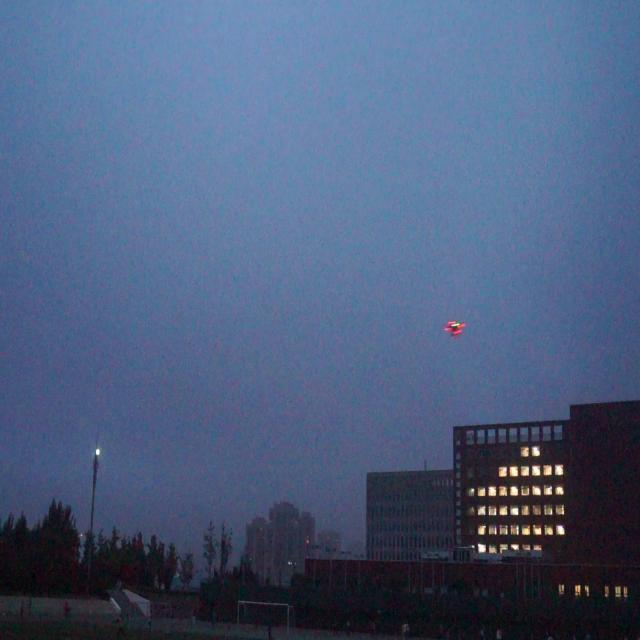UAV: (444, 320, 466, 336)
